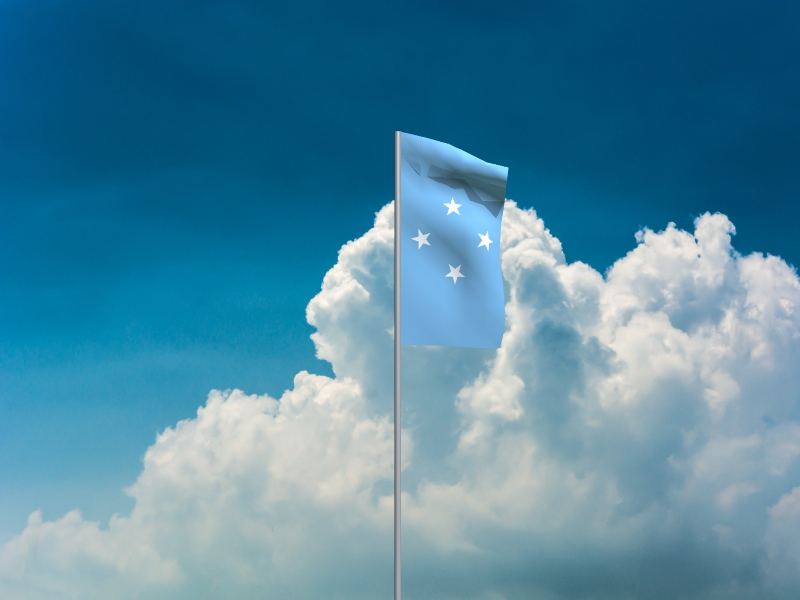fm: (401, 133, 511, 350)
